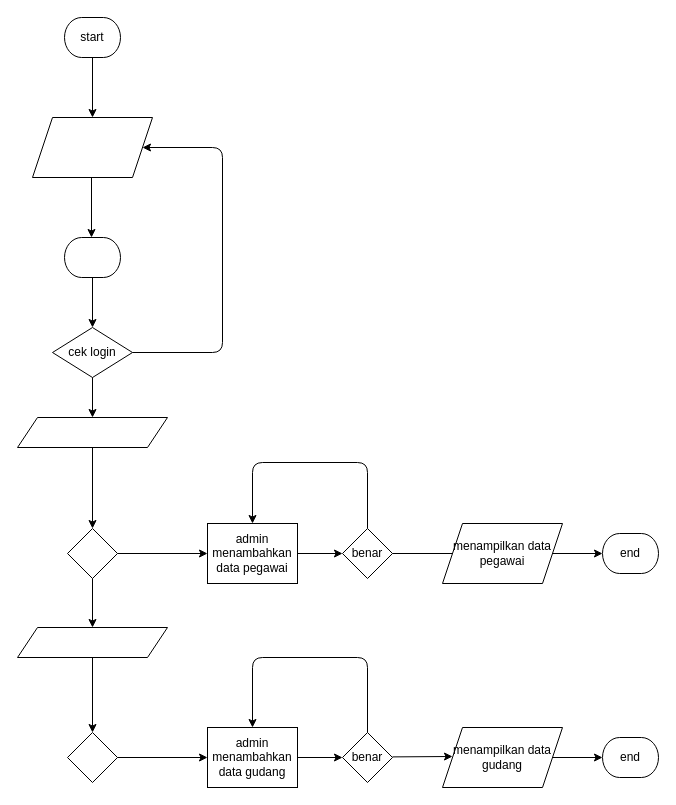
Image size: 676x805. Some labels were removed from this diagram. Here are the shapes that lost their labels. From the top down, the box of each, then its label:
(32, 116, 152, 178): menampilkan halaman home
(64, 236, 120, 278): login
(16, 416, 168, 448): tambah data pegawai
(16, 626, 168, 658): tambah data gudang
